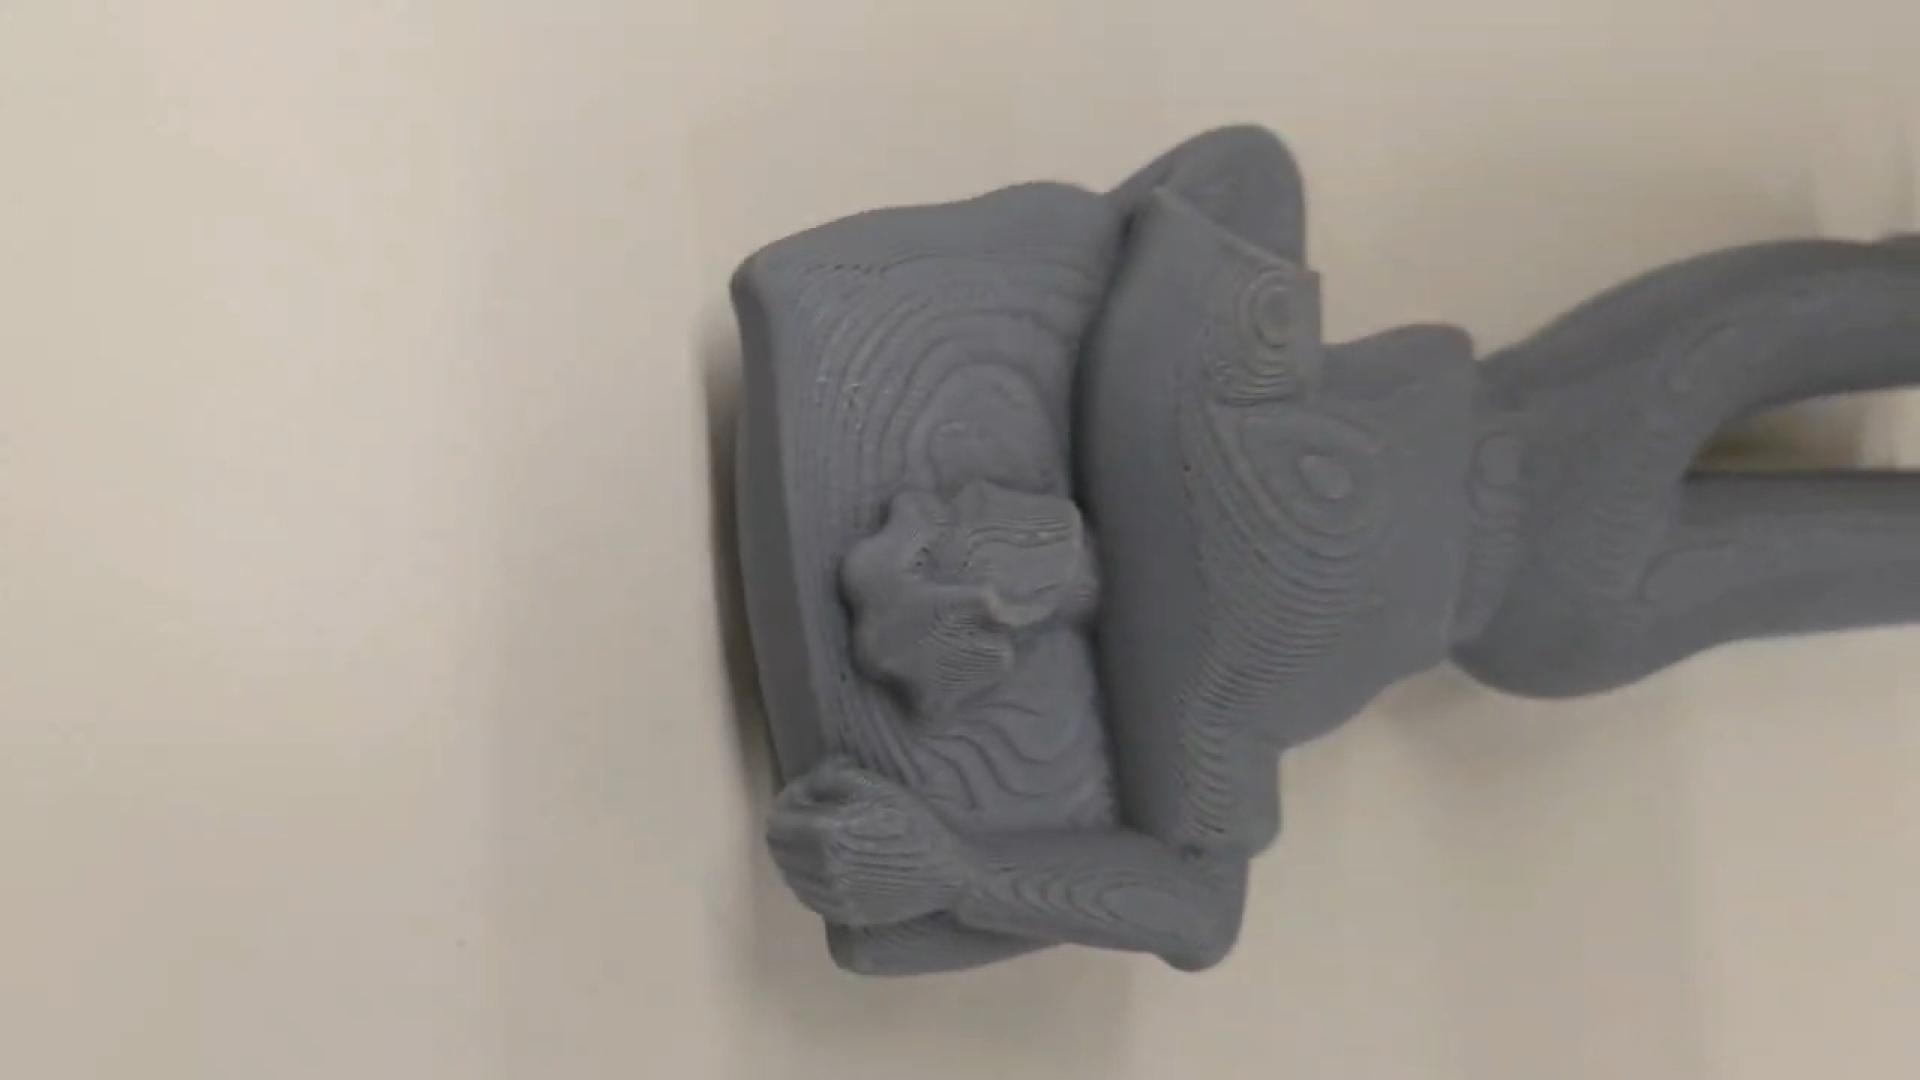Bad-style: (733, 109, 1920, 1000)
